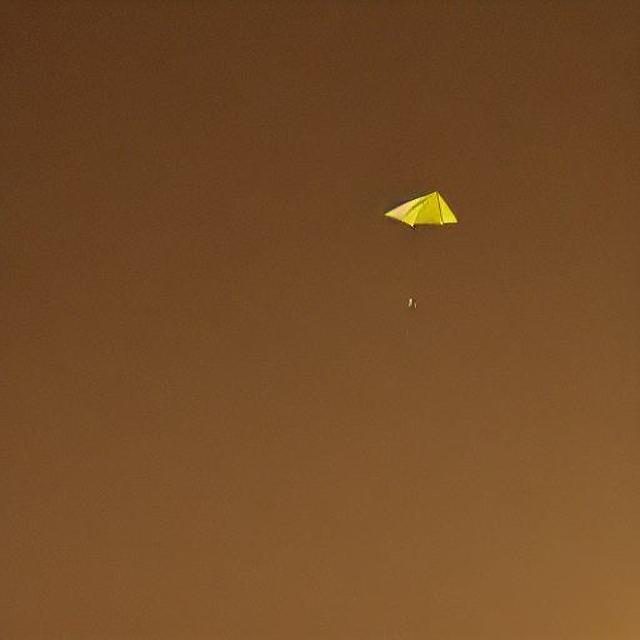floating object: (380, 189, 460, 231)
